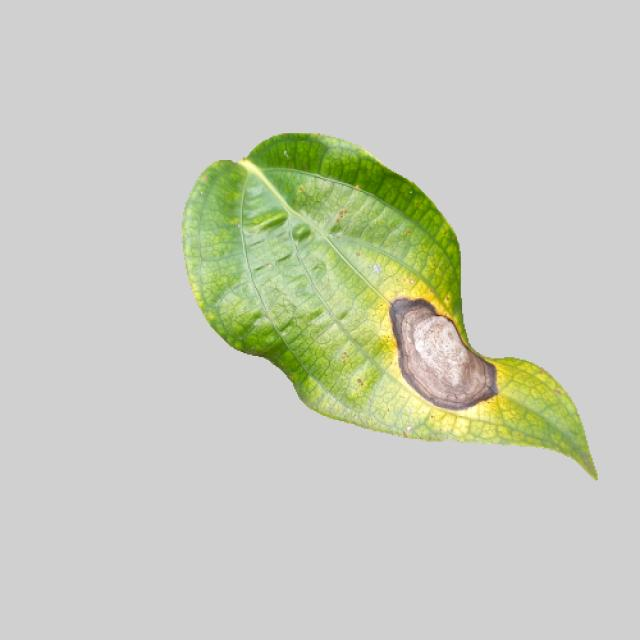leaf-blight: (172, 133, 599, 485)
